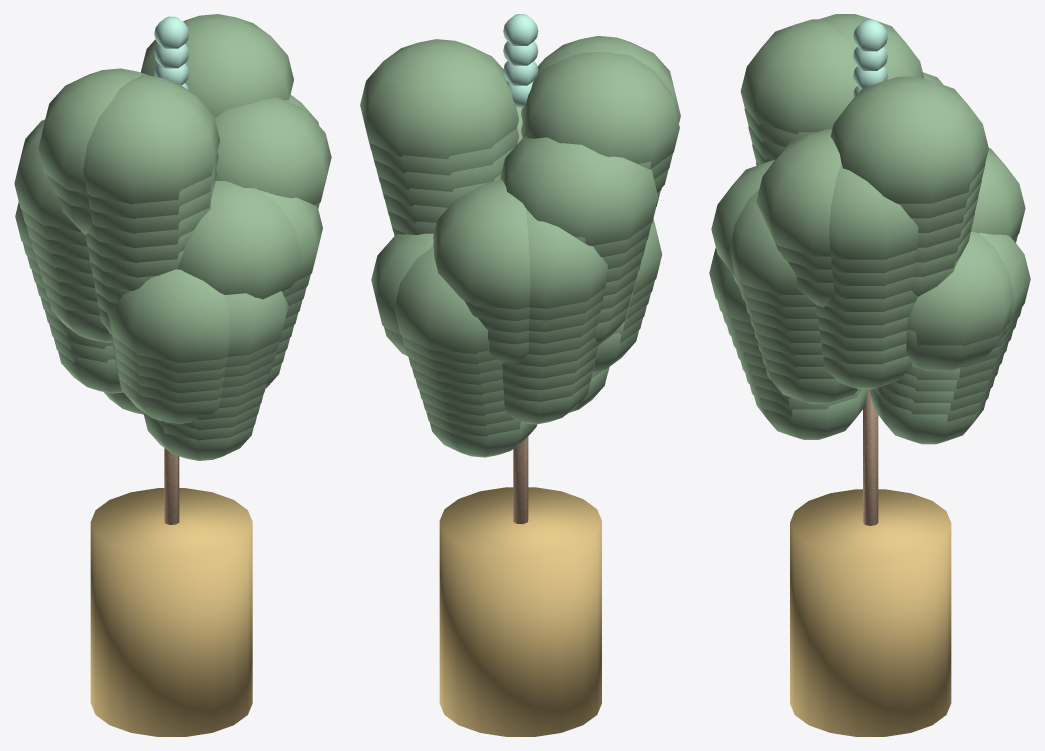
File: Gear09.fbx
3 views of the same model, side by side, from view 1: azimuth 30°, elevation 25°; view 2: azimuth 150°, elevation 25°; view 3: azimuth 270°, elevation 25° (orthographic).
Visible parts, largest first — view 1: Gear09_V10_Leaf, Gear09_V10_Gold, Gear09_V9_Leaf, Gear09_V8_Leaf, Gear09_V5_Leaf, Gear09_V7_Leaf, Gear09_V6_Leaf, Gear09_V1_Leaf, Gear09_V3_Leaf, Gear09_V4_Leaf, Gear09_V2_Leaf, Gear09_V10_Glow (+2 smaller); view 2: Gear09_V10_Leaf, Gear09_V10_Gold, Gear09_V9_Leaf, Gear09_V8_Leaf, Gear09_V7_Leaf, Gear09_V6_Leaf, Gear09_V1_Leaf, Gear09_V5_Leaf, Gear09_V3_Leaf, Gear09_V4_Leaf, Gear09_V2_Leaf, Gear09_V10_Glow (+2 smaller); view 3: Gear09_V10_Leaf, Gear09_V10_Gold, Gear09_V9_Leaf, Gear09_V1_Leaf, Gear09_V2_Leaf, Gear09_V8_Leaf, Gear09_V7_Leaf, Gear09_V5_Leaf, Gear09_V4_Leaf, Gear09_V3_Leaf, Gear09_V6_Leaf, Gear09_V1_Wood (+5 smaller).
Part boxes in pixels (left/top/right/bottom): Gear09_V10_Leaf: left=14, top=14, right=331, bottom=362; Gear09_V10_Gold: left=90, top=488, right=252, bottom=736; Gear09_V9_Leaf: left=21, top=152, right=319, bottom=373; Gear09_V8_Leaf: left=26, top=169, right=306, bottom=383; Gear09_V5_Leaf: left=39, top=246, right=293, bottom=424; Gear09_V7_Leaf: left=30, top=201, right=302, bottom=393; Gear09_V6_Leaf: left=35, top=230, right=297, bottom=403; Gear09_V1_Leaf: left=58, top=307, right=253, bottom=460; Gear09_V3_Leaf: left=48, top=277, right=285, bottom=430; Gear09_V4_Leaf: left=44, top=261, right=289, bottom=419; Gear09_V2_Leaf: left=53, top=292, right=281, bottom=440; Gear09_V10_Glow: left=154, top=16, right=189, bottom=48; Gear09_V10_Leaf: left=360, top=36, right=680, bottom=353; Gear09_V10_Gold: left=439, top=487, right=601, bottom=736; Gear09_V9_Leaf: left=370, top=121, right=672, bottom=364; Gear09_V8_Leaf: left=374, top=146, right=668, bottom=374; Gear09_V7_Leaf: left=379, top=174, right=661, bottom=384; Gear09_V6_Leaf: left=383, top=191, right=660, bottom=395; Gear09_V1_Leaf: left=430, top=367, right=608, bottom=457; Gear09_V5_Leaf: left=388, top=207, right=655, bottom=405; Gear09_V3_Leaf: left=423, top=240, right=646, bottom=426; Gear09_V4_Leaf: left=393, top=224, right=651, bottom=415; Gear09_V2_Leaf: left=426, top=257, right=642, bottom=436; Gear09_V10_Glow: left=503, top=14, right=538, bottom=45; Gear09_V10_Leaf: left=709, top=14, right=1030, bottom=346; Gear09_V10_Gold: left=790, top=489, right=951, bottom=736; Gear09_V9_Leaf: left=718, top=108, right=1021, bottom=370; Gear09_V1_Leaf: left=754, top=356, right=985, bottom=444; Gear09_V2_Leaf: left=750, top=343, right=990, bottom=421; Gear09_V8_Leaf: left=722, top=125, right=1017, bottom=347; Gear09_V7_Leaf: left=727, top=144, right=1012, bottom=367; Gear09_V5_Leaf: left=736, top=229, right=1003, bottom=388; Gear09_V4_Leaf: left=740, top=255, right=999, bottom=399; Gear09_V3_Leaf: left=745, top=330, right=994, bottom=410; Gear09_V6_Leaf: left=731, top=161, right=1008, bottom=378; Gear09_V1_Wood: left=863, top=395, right=878, bottom=525.
Size of the model in its own units: 89.37 by 216 by 92.14.
